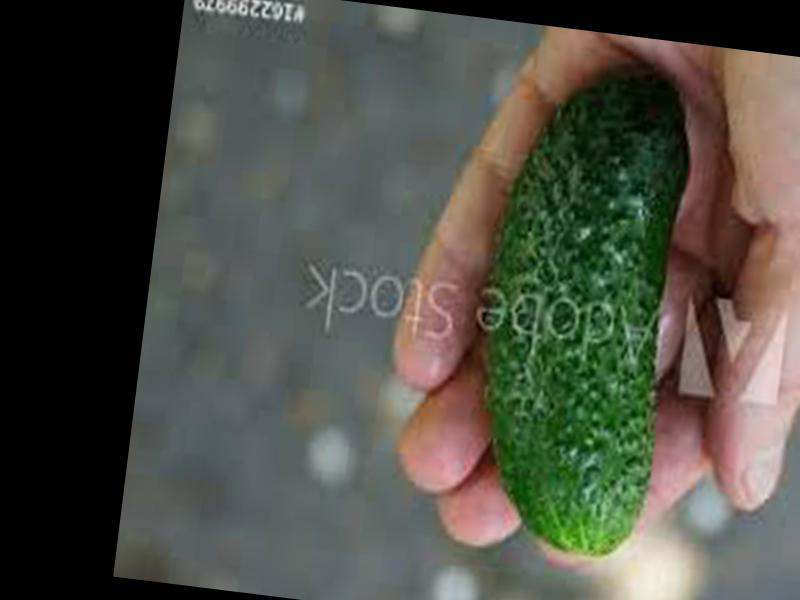Cucumber: (454, 57, 698, 558)
